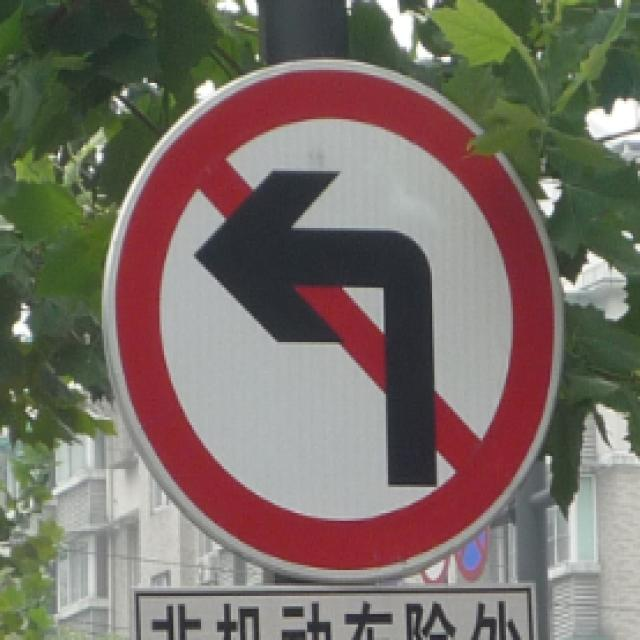Not that Direction: (105, 53, 562, 587)
